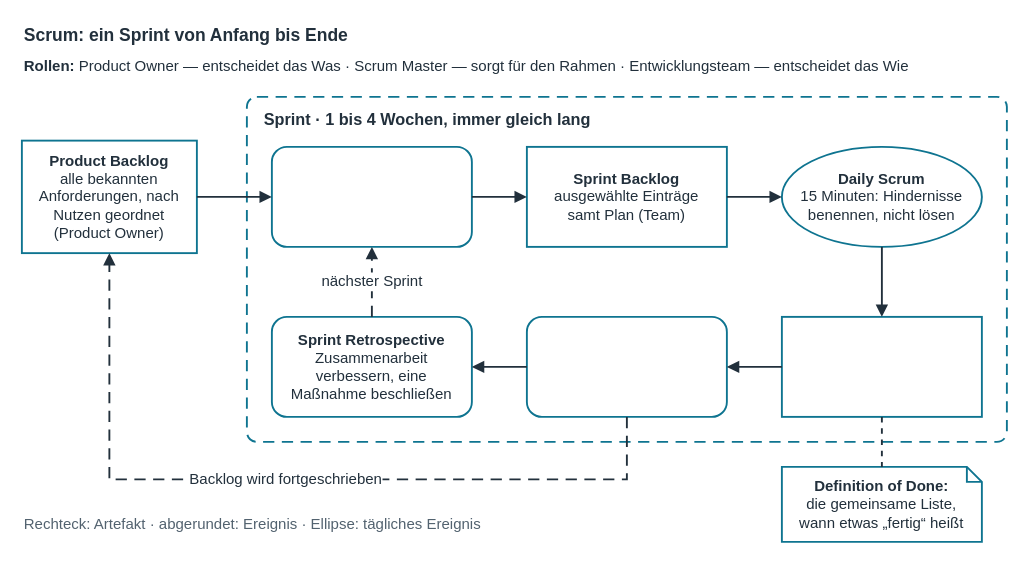
This 1030x564 diagram has some shape labels left out. Each missing label, with the box of its shape:
Increment brauchbares Ergebnis am Sprintende, erfüllt die Definition of Done: (780, 315, 982, 417)
Sprint Planning Was wird fertig — und wie?: (270, 145, 472, 247)
Sprint Review Zuwachs vorführen, Rückmeldung einholen: (525, 315, 727, 417)
